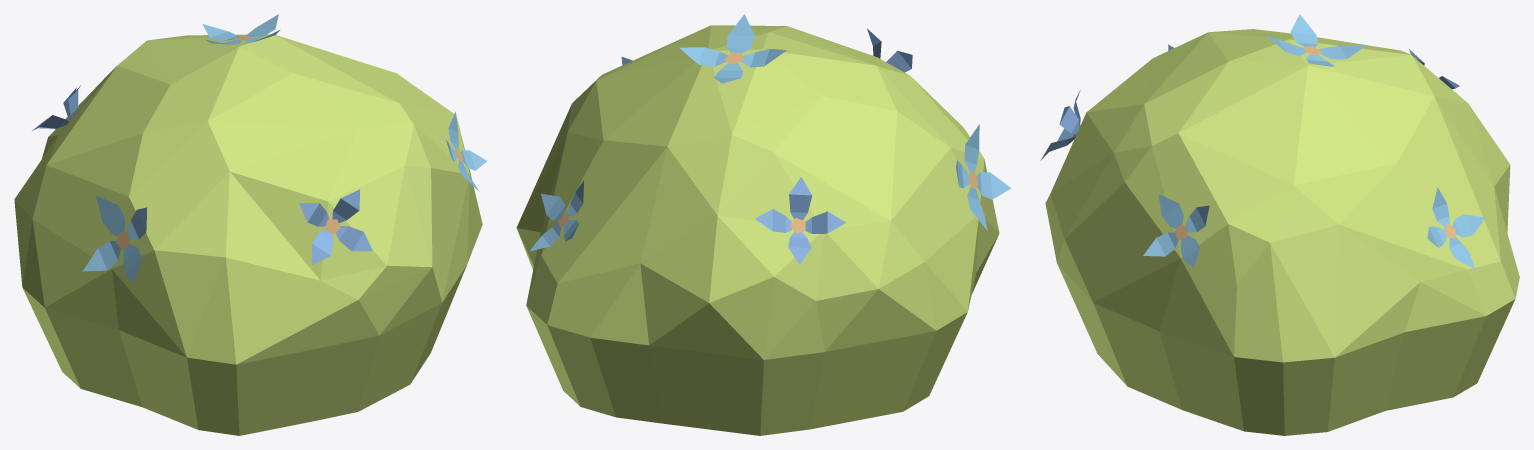
Rendered from FlowerBush_b_l_01.fbx.
The picture shows the model from 3 angles, left to right: view 1: azimuth 30°, elevation 25°; view 2: azimuth 150°, elevation 25°; view 3: azimuth 270°, elevation 25°; orthographic projection. The views are drawn at different scales.
Parts seen in each view (by area): view 1: FlowerBush_b_l_01; view 2: FlowerBush_b_l_01; view 3: FlowerBush_b_l_01.
Boxes of the visible parts, box(x1,y1,x2,y2) form: FlowerBush_b_l_01: box(14, 14, 486, 435); FlowerBush_b_l_01: box(516, 14, 1010, 435); FlowerBush_b_l_01: box(1040, 14, 1519, 435).
Size of the model in its own units: 3.17 by 2.28 by 3.09.
